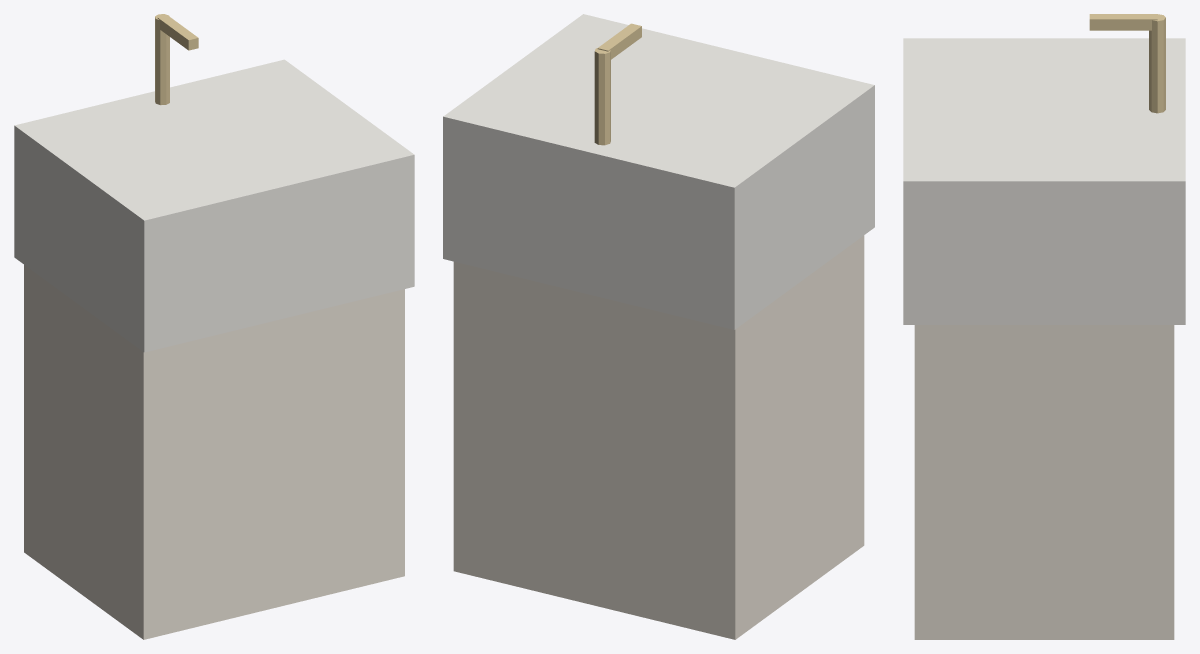
The model's file is tanque_dml.obj.
The picture shows the model from 3 angles, left to right: view 1: azimuth 30°, elevation 25°; view 2: azimuth 150°, elevation 25°; view 3: azimuth 270°, elevation 25°; orthographic projection. The views are drawn at different scales.
Parts seen in each view (by area): view 1: tanque_dml; view 2: tanque_dml; view 3: tanque_dml.
Boxes of the visible parts, left/top/right/bottom form: tanque_dml: left=14, top=14, right=414, bottom=639; tanque_dml: left=443, top=14, right=874, bottom=639; tanque_dml: left=903, top=14, right=1185, bottom=639.
Size of the model in its own units: 0.6 by 1.08 by 0.5.
